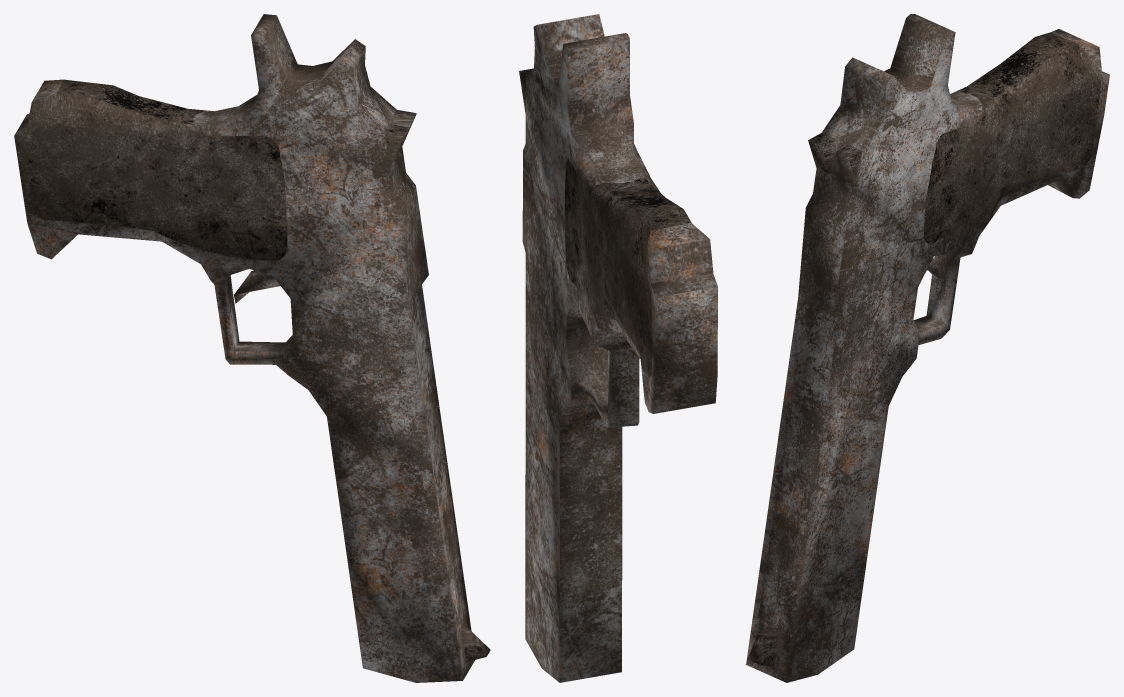
The model's file is Anim_idle_pistola_objetos.0043.obj.
3 views of the same model, side by side, from view 1: azimuth 30°, elevation 25°; view 2: azimuth 150°, elevation 25°; view 3: azimuth 270°, elevation 25° (orthographic). The views are drawn at different scales.
Parts seen in each view (by area): view 1: Pistola1; view 2: Pistola1; view 3: Pistola1.
Boxes of the visible parts, <box> form: Pistola1: <box>14,14,490,682</box>; Pistola1: <box>519,14,717,682</box>; Pistola1: <box>746,14,1109,682</box>.
Size of the model in its own units: 0.8894 by 1.67 by 0.9139.
